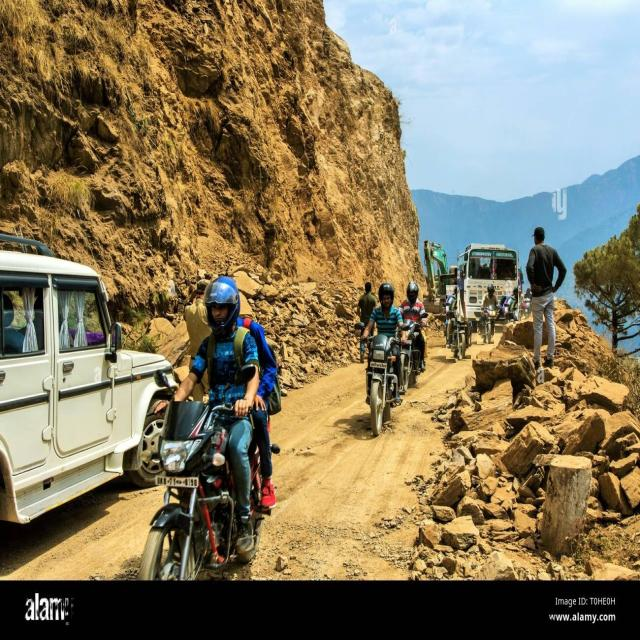bus: (458, 243, 518, 321)
car: (0, 235, 174, 523)
motorcycle: (139, 277, 280, 580), (361, 282, 406, 435), (399, 282, 428, 394), (446, 286, 471, 359), (478, 284, 494, 344)
